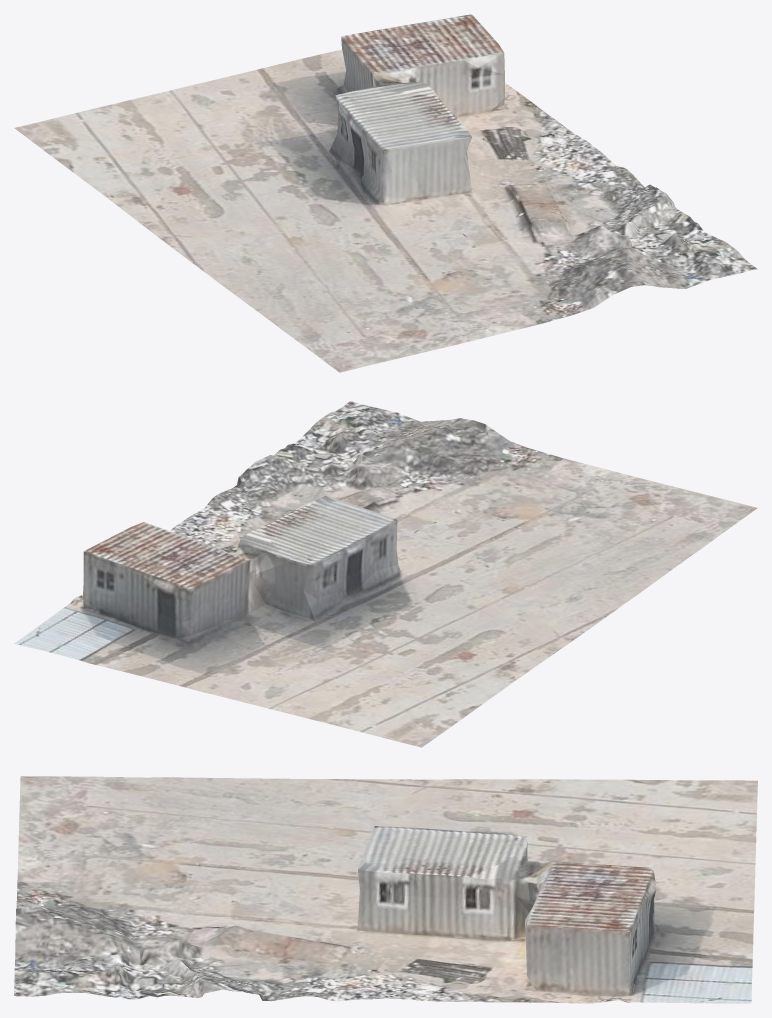
File: Tile_+009_+006_L20_0uuuu02.glb
3 views of the same model, one above another, from view 1: azimuth 30°, elevation 25°; view 2: azimuth 150°, elevation 25°; view 3: azimuth 270°, elevation 25° (orthographic). The views are drawn at different scales.
Parts seen in each view (by area): view 1: rtc; view 2: rtc; view 3: rtc.
Part boxes in pixels (bbox=[...]): rtc: bbox=[14, 14, 757, 372]; rtc: bbox=[14, 401, 757, 747]; rtc: bbox=[14, 776, 757, 1003].
Bounding box in the file's own units: 20.44 × 2.75 × 28.12.
Materials: 2 (2 with a texture image).
